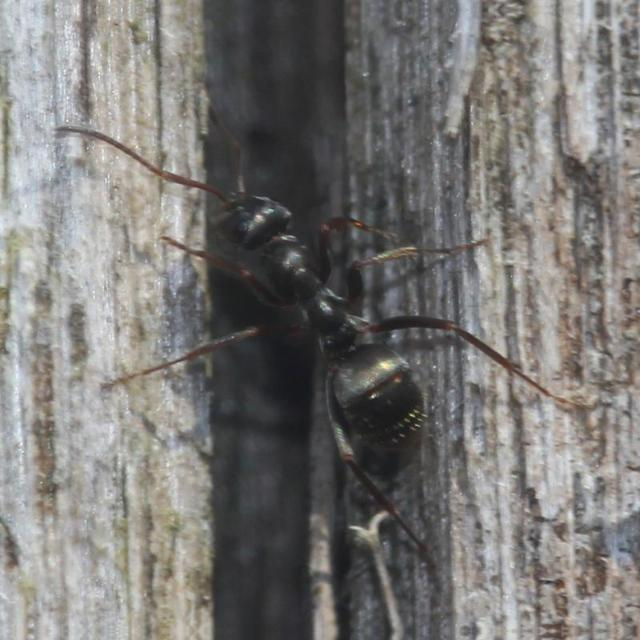Formica: (182, 154, 478, 488)
